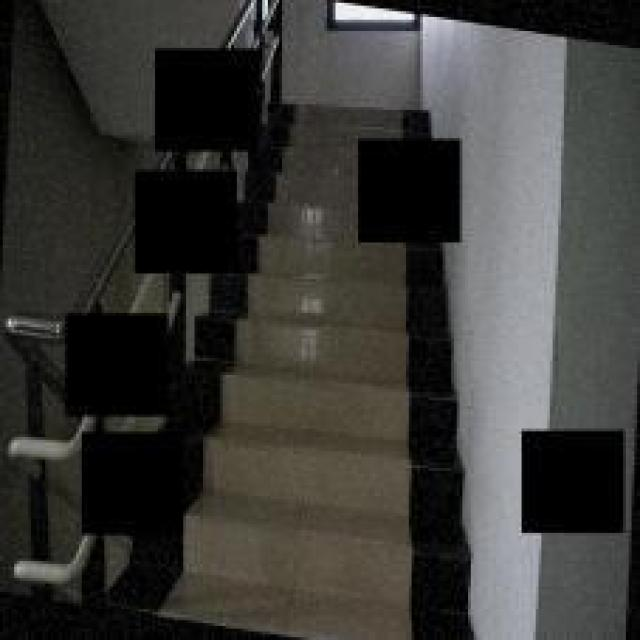upstair: (255, 266, 463, 604)
